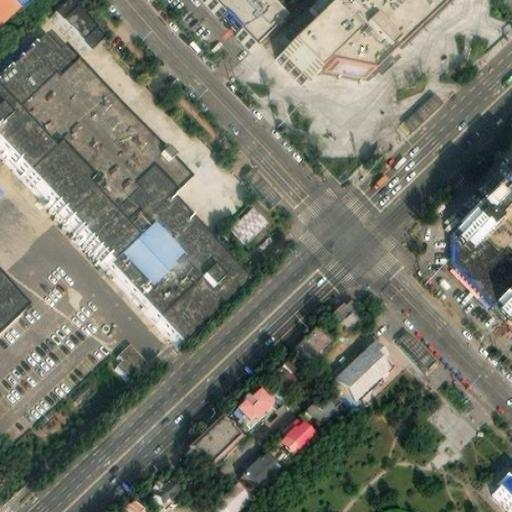building: (453, 206, 512, 317), (330, 329, 399, 398), (458, 170, 512, 241), (188, 405, 244, 460), (222, 0, 287, 37), (222, 199, 270, 247), (233, 377, 280, 424), (237, 165, 282, 212), (242, 440, 285, 483), (107, 339, 148, 380), (0, 270, 28, 329), (276, 409, 316, 450), (213, 473, 253, 512), (297, 317, 335, 356), (266, 350, 304, 388), (148, 472, 187, 509), (490, 465, 512, 510), (333, 292, 363, 323), (269, 434, 291, 456), (119, 496, 148, 512)
